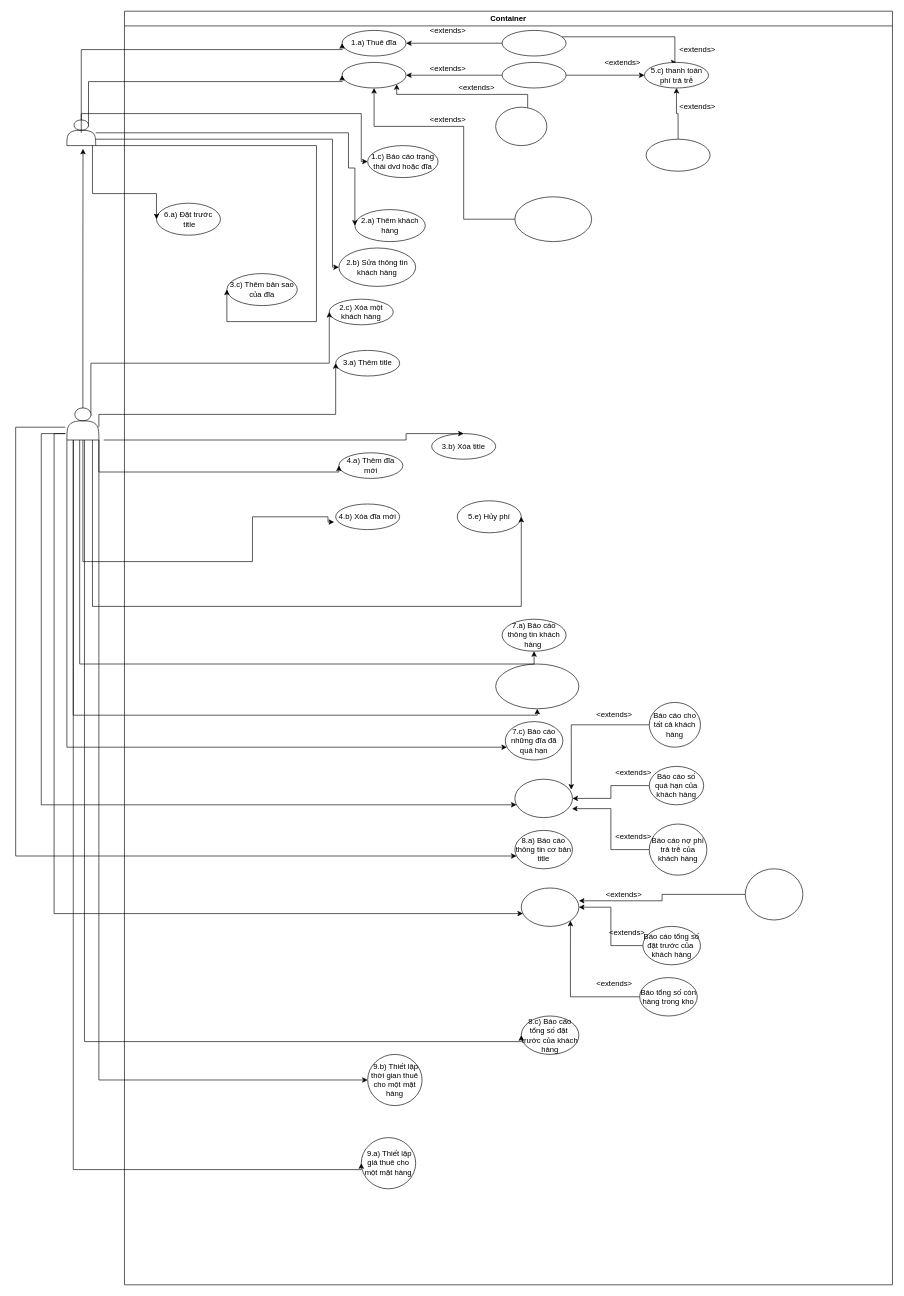
The diagram is 904 pixels wide and 1296 high, and some of its shapes have lost their labels. Each missing label, with the centre of its shape:
"1.b) Ghi lại thời gian trả đĩa" goes at point 373,75.
"5.a) Thêm phí trả trễ" goes at point 533,75.
"5.b) Yêu càu trả phí trễ" goes at point 533,43.
"5.d) Hiển thị thông tin chi tiết trả trễ" goes at point 677,155.
"6.b) Chuyển đĩa cho khách hàng đặt" goes at point 553,219.
"6.c) Hủy đặt trước titile" goes at point 521,126.
"7.b) Báo cáo tổng đĩa khách hàng thuê" goes at point 537,686.
"7.d) Báo cáo thông tin phí trả trễ" goes at point 543,798.
"8.b) Báo cáo tổng số bản sao sỡ hựu" goes at point 550,906.
"Báo cáo tổng số bản sao khách hàng đang thuê" goes at point 774,894.
"clerks" goes at point 81,132.
"manager" goes at point 82,423.
